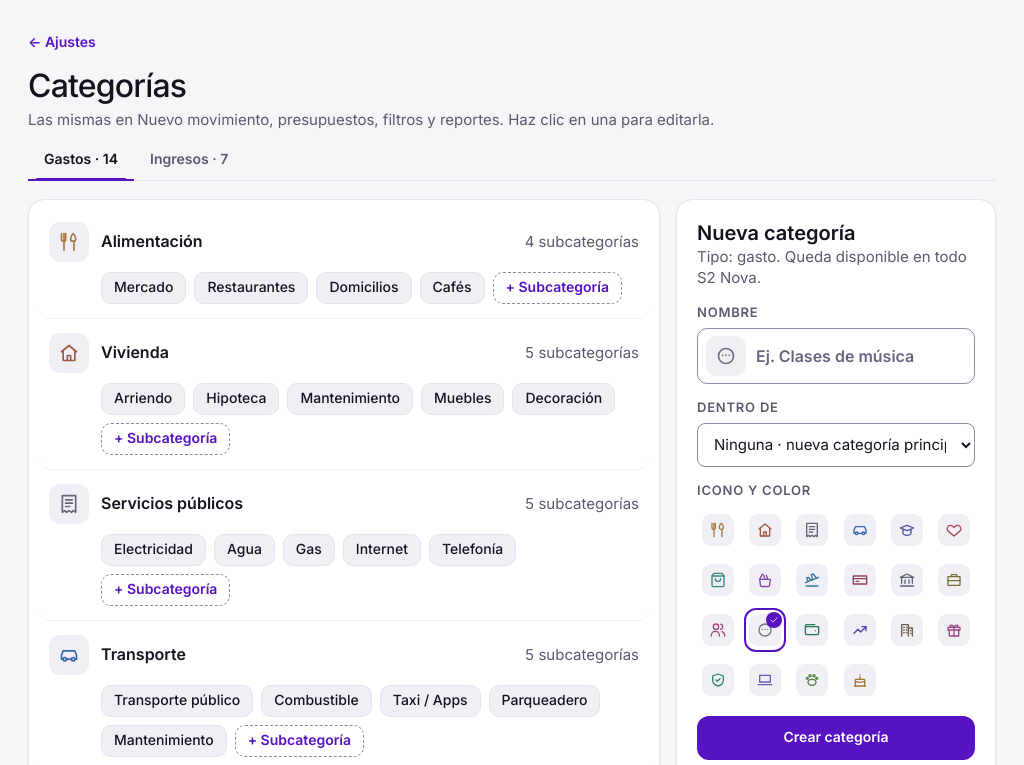
Ajustes › Categorías › lists the expense taxonomy and switches to Ingresos
The width and height of the screenshot is (1024, 765).
expect the button "Alimentación 4 subcategorías" is shown: met, box [49,222,639,262]
expect the button "Mercado" is shown: met, box [101,272,186,304]
Click the tab "Ingresos · 7".
click(189, 160)  # box [134,140,244,180]
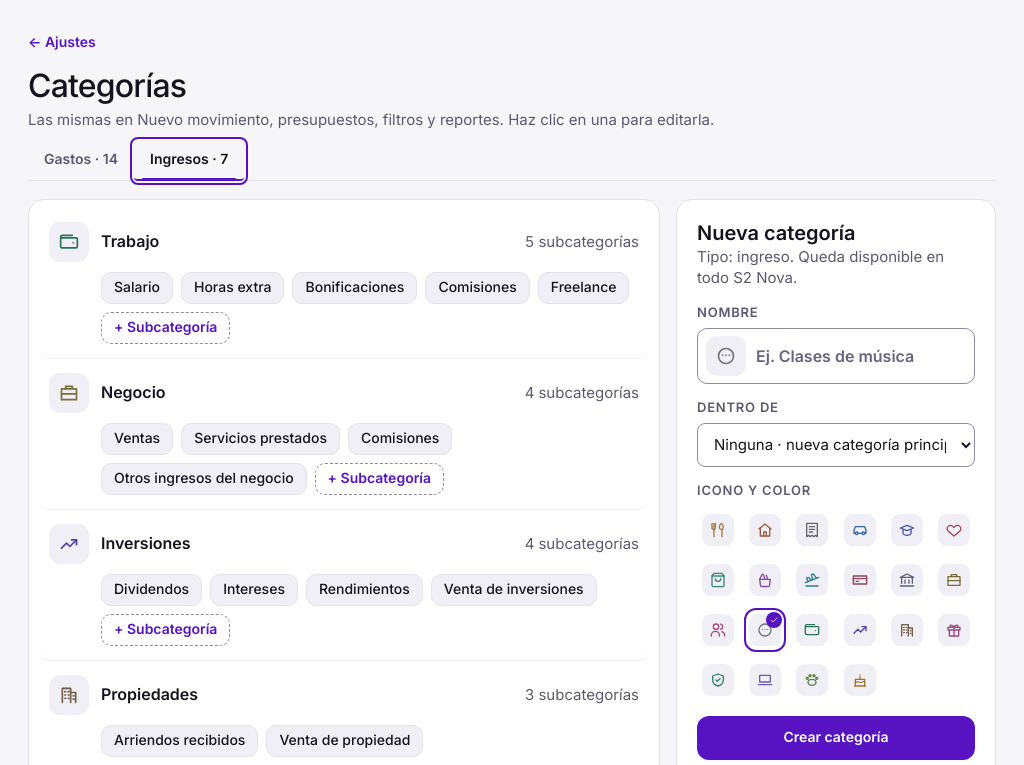
expect the button "Trabajo 5 subcategorías" is shown: met, box [49,222,639,262]
expect the text "Tipo: ingreso. Queda disponible en todo S2 Nova." is shown: met, box [697,246,975,289]
